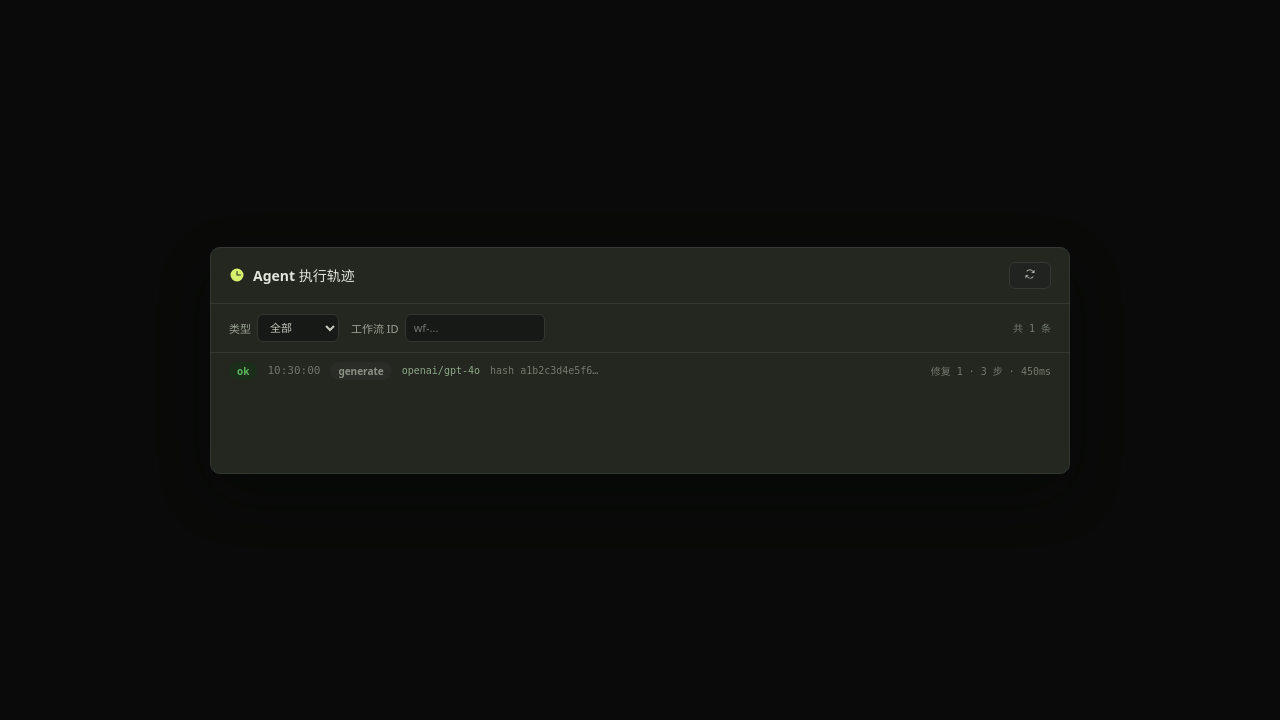
AgentTracePanel › renders module_diff_summary and token_usage when present
The width and height of the screenshot is (1280, 720).
Click the button with aria-label "轨迹 trc-1". click: x=294, y=370
box: [211,352,1069,388]
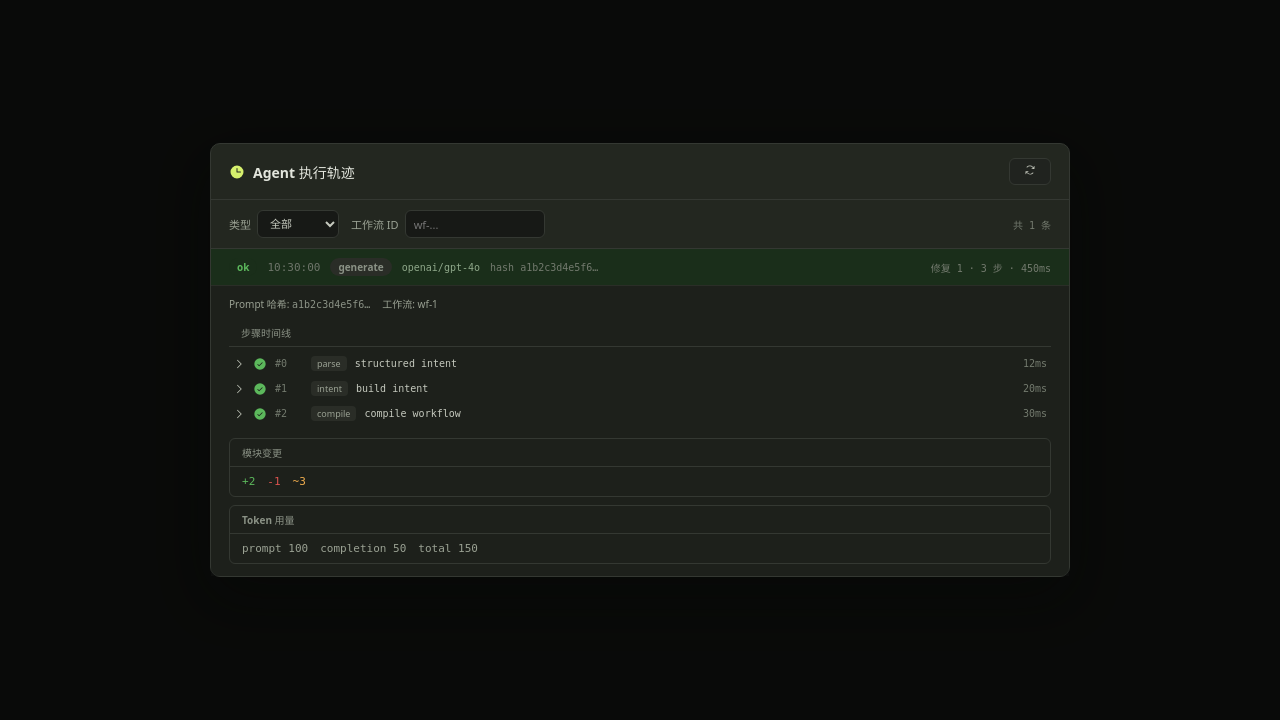
Expected: the element with test id "module-diff-summary" is shown, [229,438,1051,497]
Expected: the element with test id "token-usage" is shown, [229,505,1051,564]
Expected: the text "+2" is shown, [242,475,255,488]
